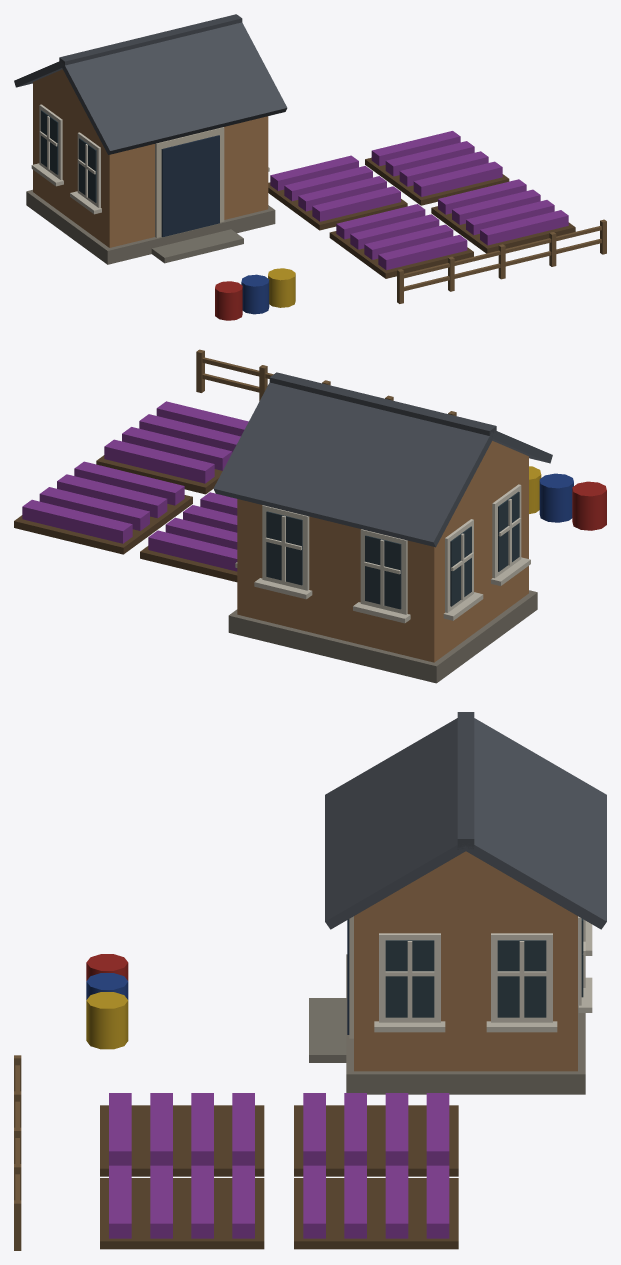
The model's file is procedural_dye_garden@5.glb.
3 renders of one model, top to bottom at view 1: azimuth 30°, elevation 25°; view 2: azimuth 150°, elevation 25°; view 3: azimuth 270°, elevation 25°, orthographic. The views are drawn at different scales.
Visible parts, largest first — view 1: part_0; view 2: part_0; view 3: part_0.
Part boxes in pixels (x1,y1,x2,y2): part_0: [14, 14, 606, 320]; part_0: [14, 349, 606, 683]; part_0: [14, 712, 606, 1250].
Bounding box in the file's own units: 8.86 × 3.83 × 7.94.
